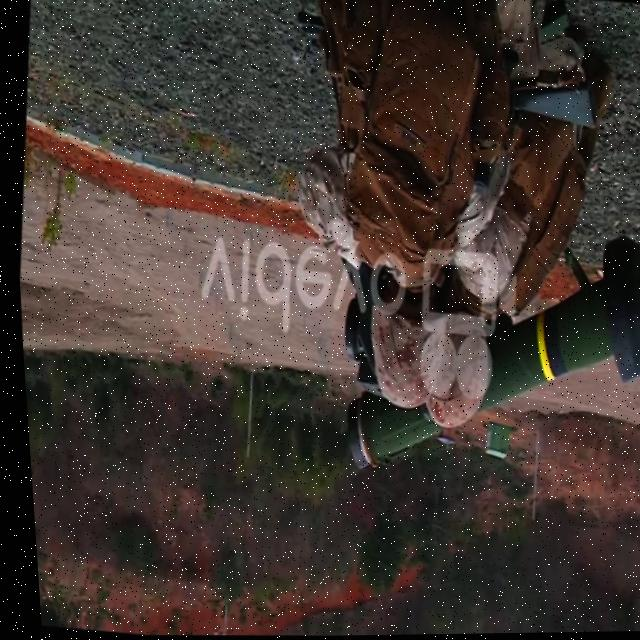rocket: (327, 213, 640, 512)
